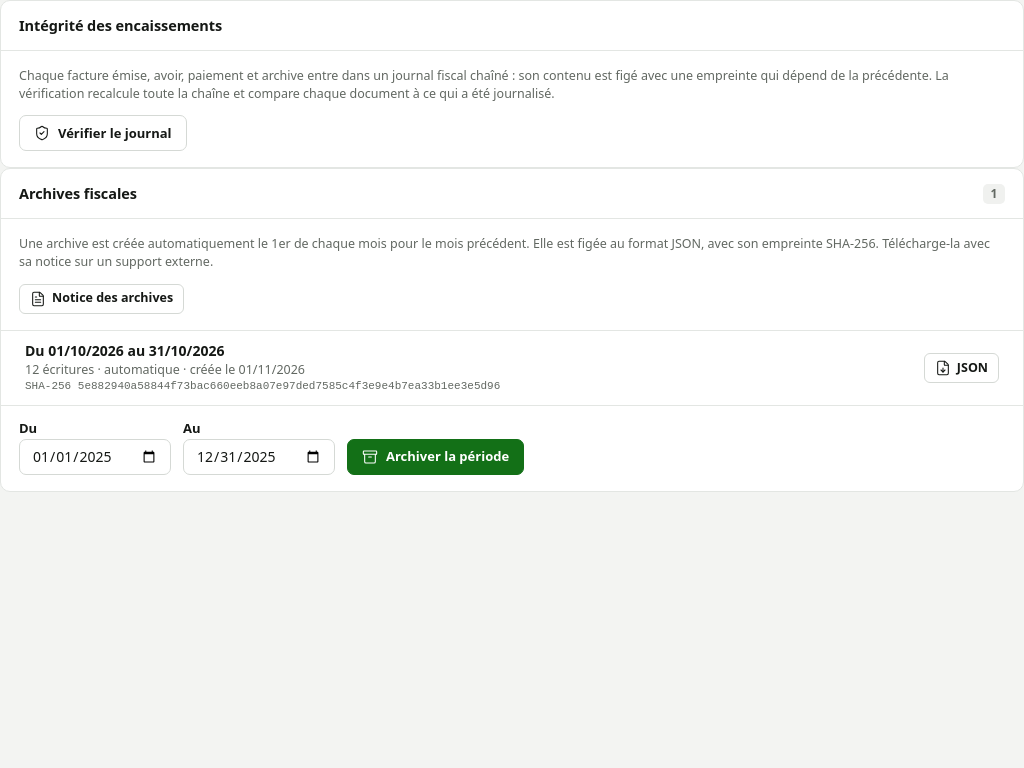
Test: Réglages › Conformité fiscale › vérification réussie : journal intègre, nombre d’écritures et dernière empreinte
Click the button "Vérifier le journal".
click(103, 133)  # box [19,115,186,151]
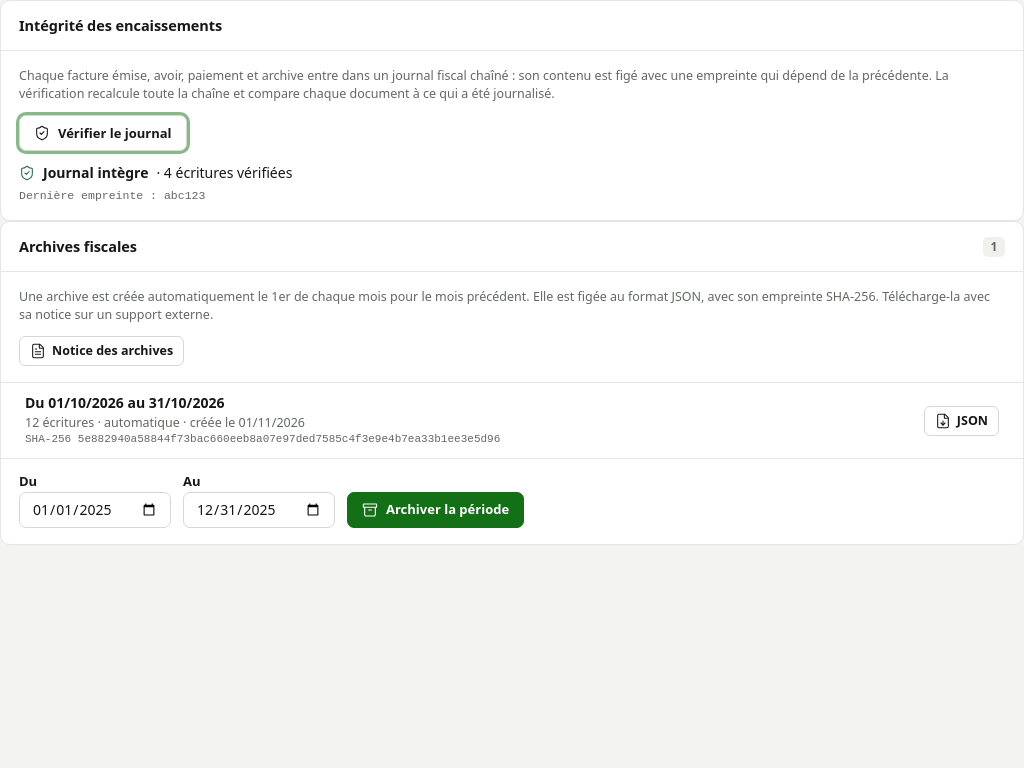
Now the message shows "Journal intègre · 4 écritures vérifiées", box [19,163,292,202]
Now the message shows "Dernière empreinte : abc123", box [19,163,292,202]
